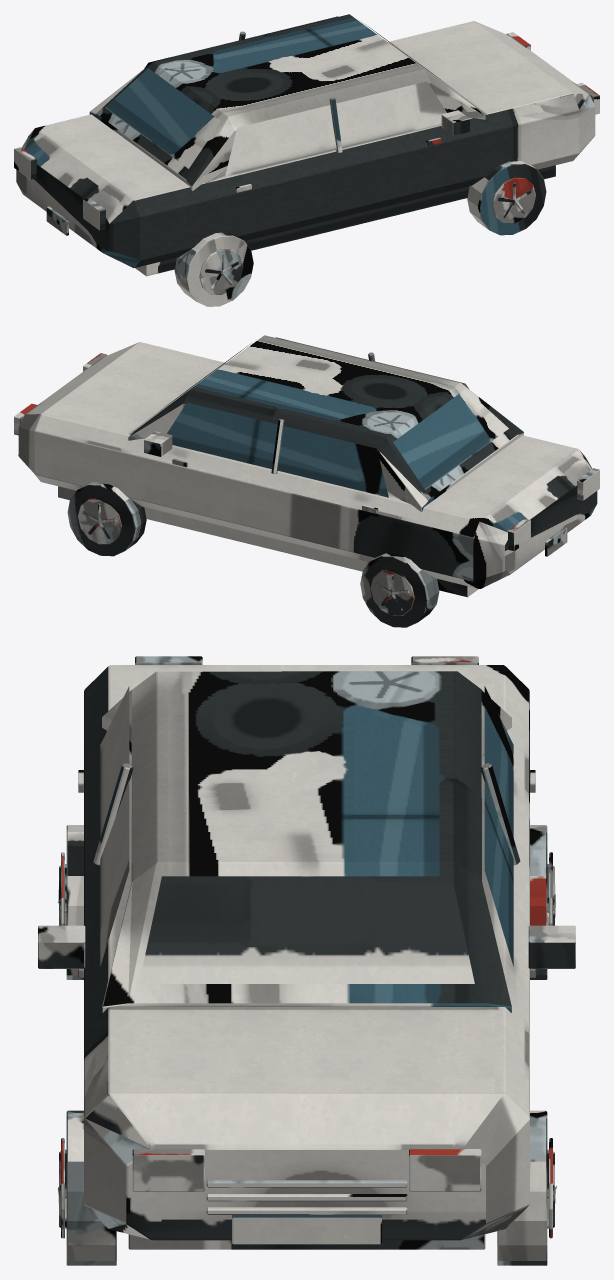
Rendered from sedan.obj.
The picture shows the model from 3 angles, top to bottom: view 1: azimuth 30°, elevation 25°; view 2: azimuth 150°, elevation 25°; view 3: azimuth 270°, elevation 25°; orthographic projection. The views are drawn at different scales.
Parts seen in each view (by area): view 1: sedan; view 2: sedan; view 3: sedan.
Part boxes in pixels (x1,y1,x2,y2): sedan: (14, 14, 599, 306); sedan: (14, 335, 599, 627); sedan: (38, 656, 575, 1265).
Size of the model in its own units: 4.62 by 1.47 by 2.15.
Materials: 1 (1 with a texture image).
